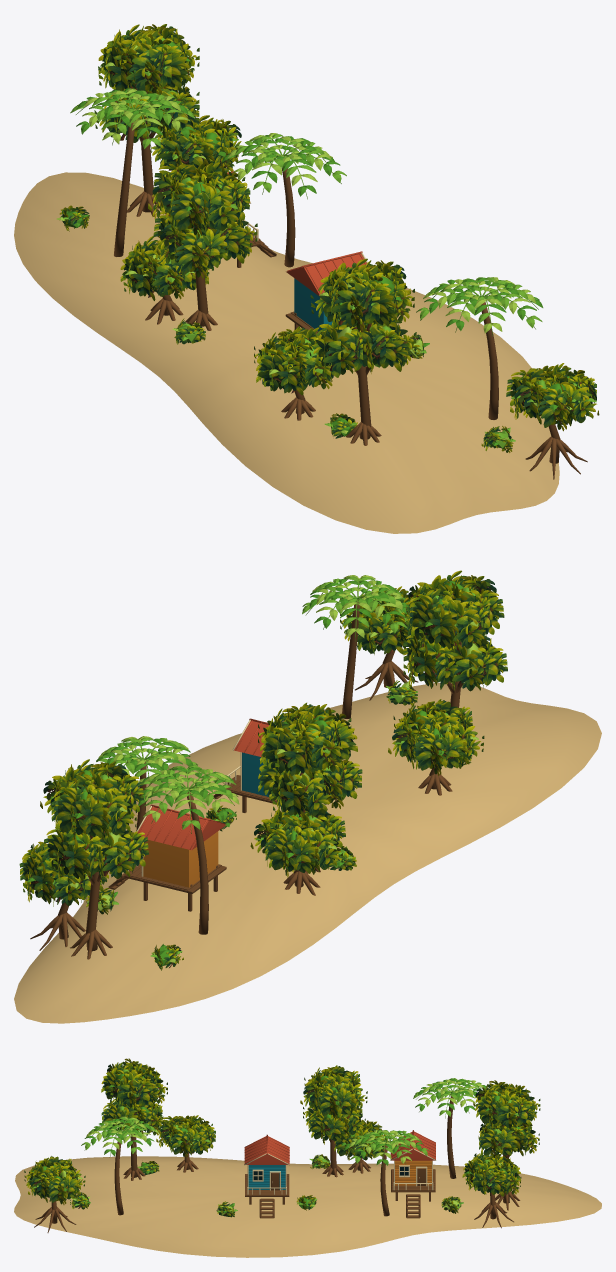
File: shore-study.glb
3 views of the same model, one above another, from view 1: azimuth 30°, elevation 25°; view 2: azimuth 150°, elevation 25°; view 3: azimuth 270°, elevation 25° (orthographic). The views are drawn at different scales.
Parts seen in each view (by area): view 1: Study warm sand, Study painted foliage, Study warm wood, Study foliage 1, Study foliage 0, Study foliage 2, Study coral roof, Study turquoise house; view 2: Study warm sand, Study painted foliage, Study warm wood, Study foliage 1, Study foliage 0, Study foliage 2, Study coral roof, Study ochre house, Study turquoise house; view 3: Study warm sand, Study painted foliage, Study warm wood, Study foliage 1, Study foliage 0, Study foliage 2, Study coral roof, Study ivory trim, Study turquoise house, Study ochre house.
Part boxes in pixels (x1,y1,x2,y2): Study warm sand: [14, 172, 559, 533]; Study painted foliage: [59, 24, 599, 452]; Study warm wood: [114, 85, 587, 479]; Study foliage 1: [63, 37, 596, 448]; Study foliage 0: [62, 41, 569, 445]; Study foliage 2: [56, 45, 574, 439]; Study coral roof: [227, 171, 366, 296]; Study turquoise house: [294, 278, 338, 331]; Study warm sand: [14, 682, 601, 1023]; Study painted foliage: [19, 570, 507, 970]; Study warm wood: [30, 601, 463, 959]; Study foliage 1: [43, 576, 477, 957]; Study foliage 0: [27, 579, 471, 965]; Study foliage 2: [27, 575, 484, 962]; Study coral roof: [137, 718, 268, 850]; Study ochre house: [143, 831, 218, 887]; Study turquoise house: [242, 752, 274, 796]; Study warm sand: [14, 1156, 601, 1257]; Study painted foliage: [24, 1058, 540, 1217]; Study warm wood: [34, 1094, 520, 1232]; Study foliage 1: [32, 1069, 519, 1212]; Study foliage 0: [32, 1074, 532, 1212]; Study foliage 2: [51, 1073, 502, 1215]; Study coral roof: [244, 1130, 435, 1164]; Study ivory trim: [244, 1149, 436, 1194]; Study turquoise house: [248, 1165, 285, 1189]; Study ochre house: [395, 1160, 431, 1185].
Bounding box in the file's own units: 18.05 × 10.43 × 44.23.
11 materials, 1 textured.
